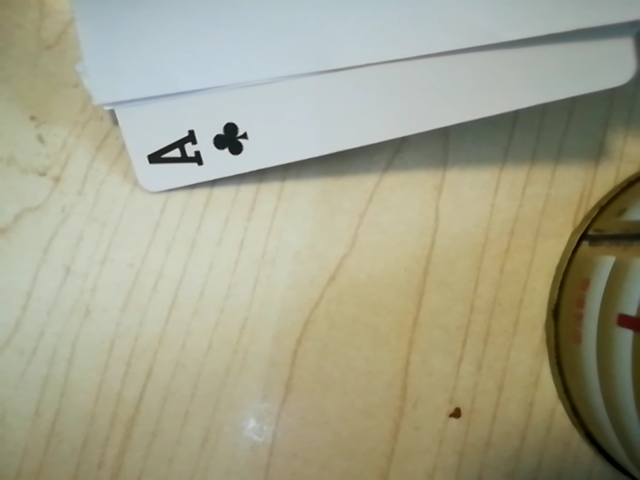mh a: (139, 109, 260, 186)
